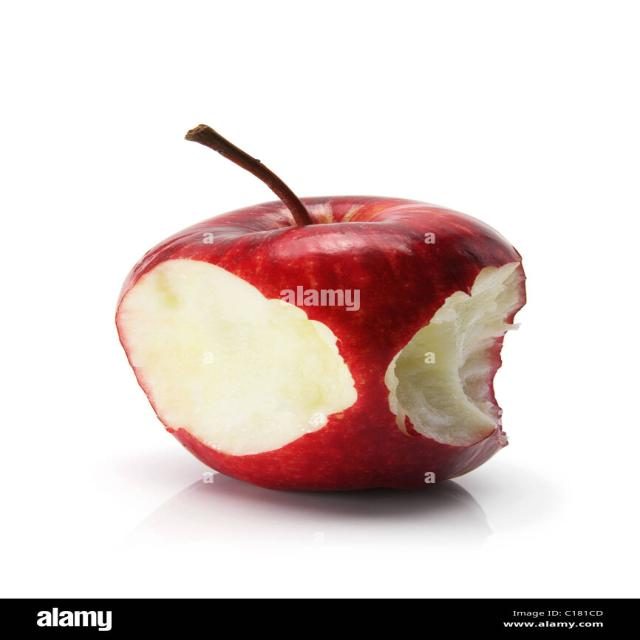apple_fruit: (109, 140, 544, 504)
